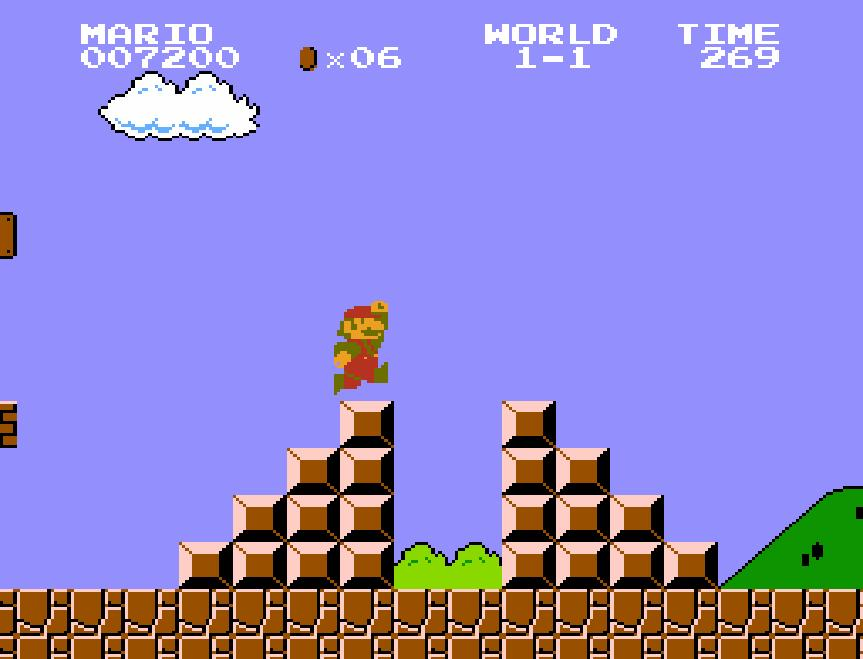big_mario: (332, 298, 390, 396)
